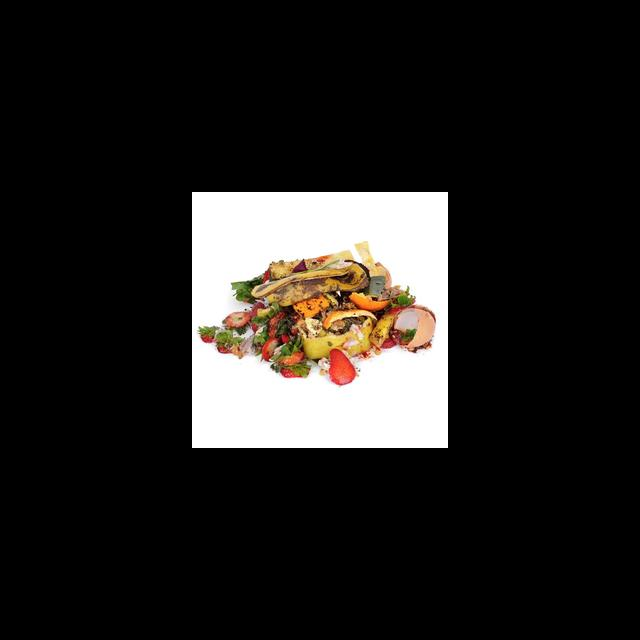food_waste: (273, 247, 388, 298), (301, 315, 392, 363), (258, 339, 309, 389), (400, 304, 448, 357), (324, 345, 366, 401), (192, 318, 245, 357), (236, 265, 274, 304), (250, 308, 293, 337), (223, 303, 253, 333)
